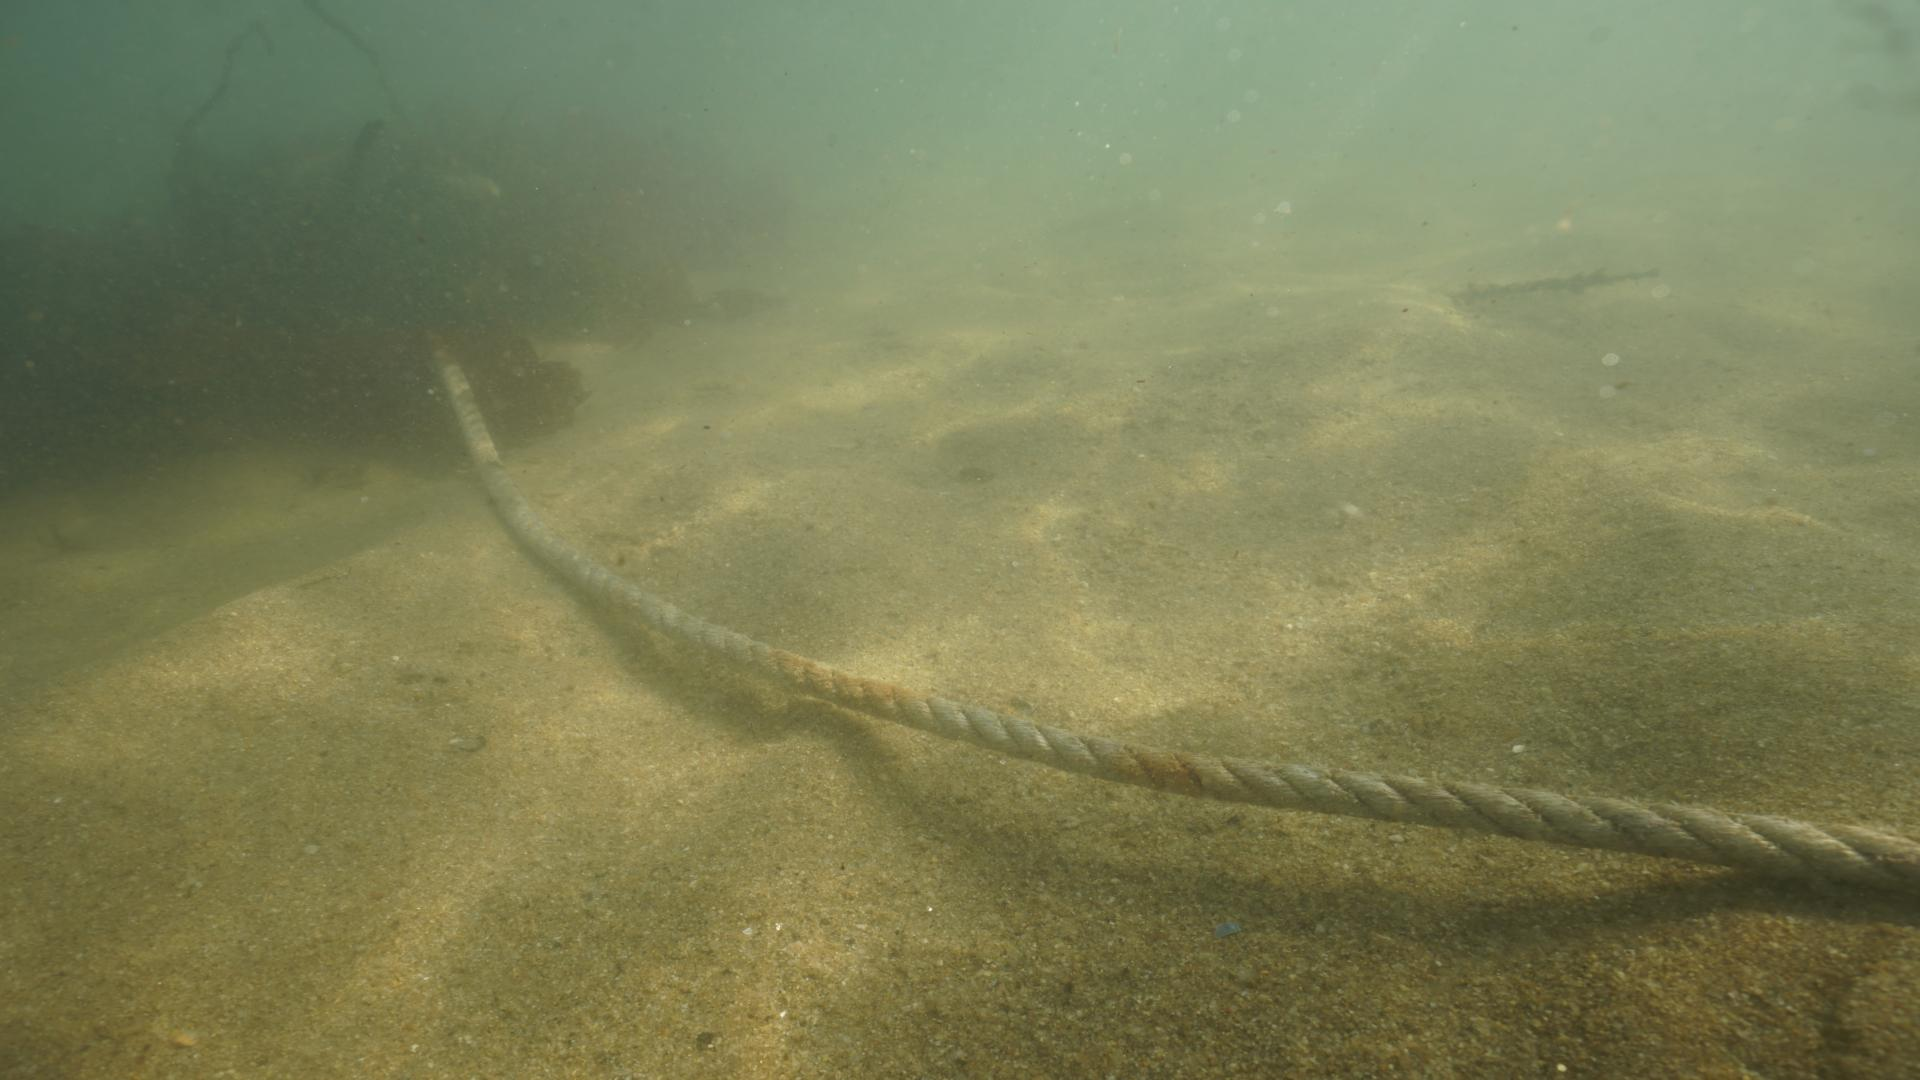rope: (423, 340, 1920, 895)
